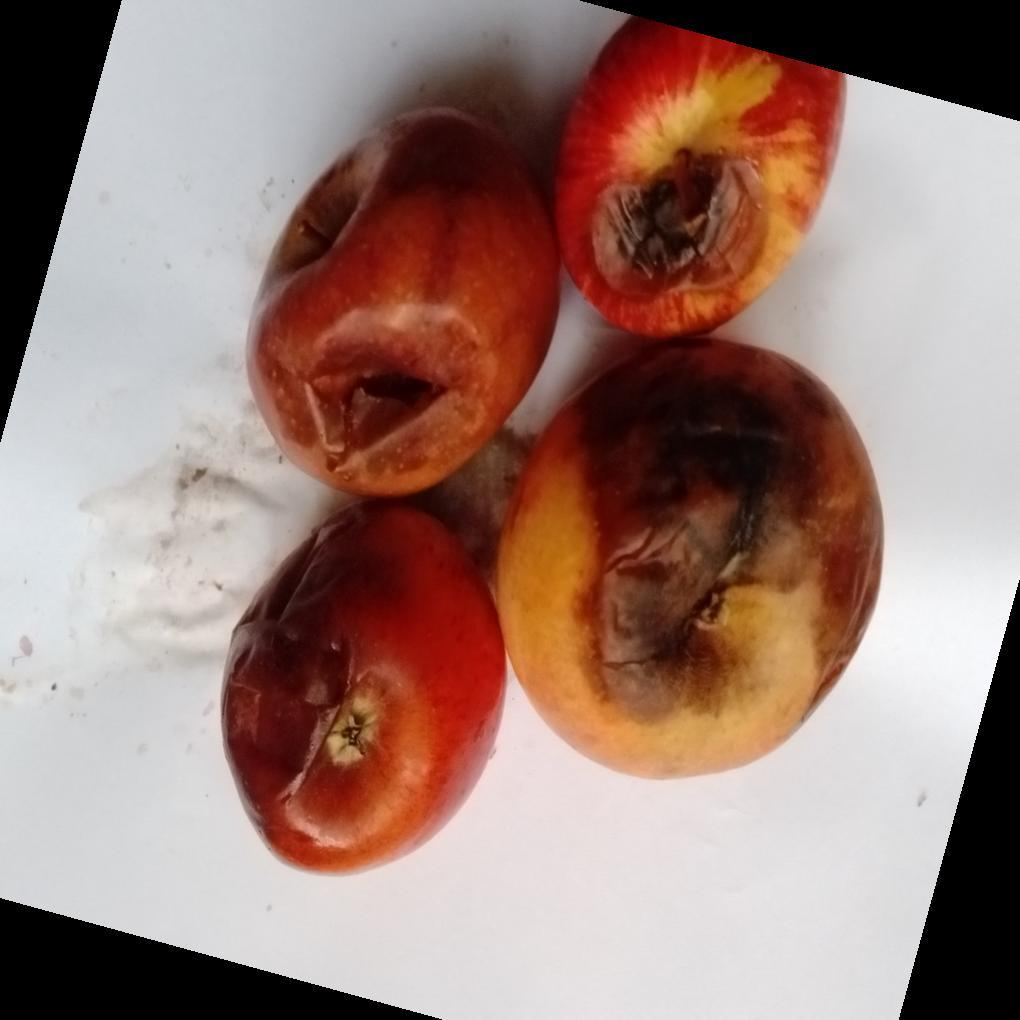FreshOrange: (220, 17, 884, 879)
